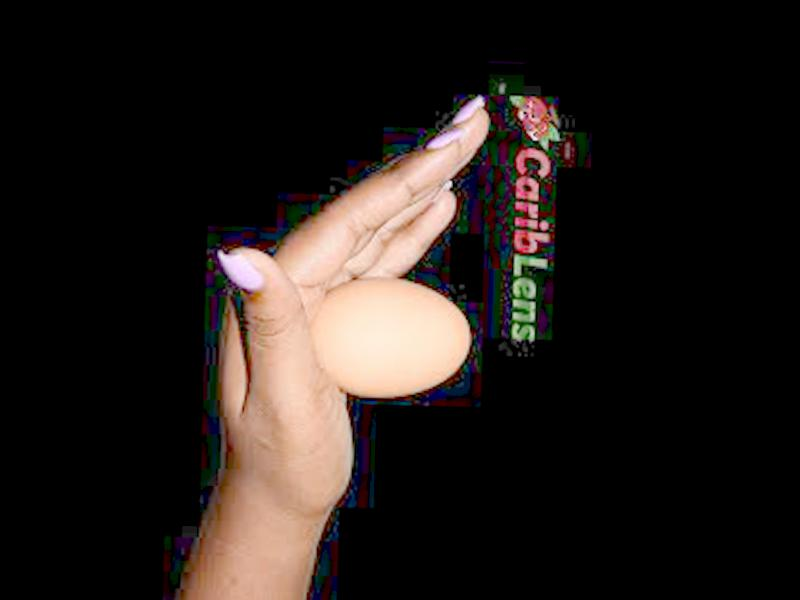Eggs: (311, 275, 472, 400)
